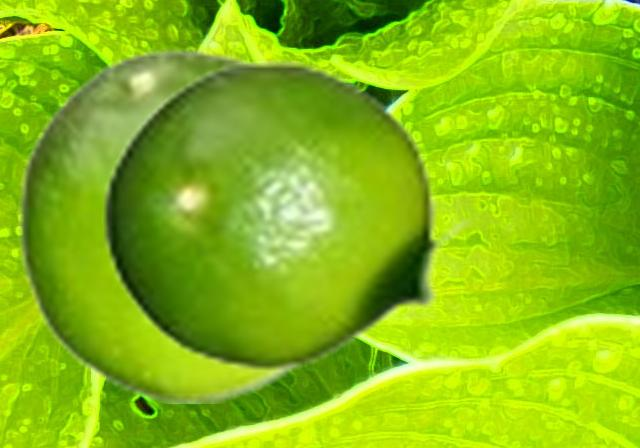calamansi: (100, 61, 475, 372), (17, 46, 310, 402)
